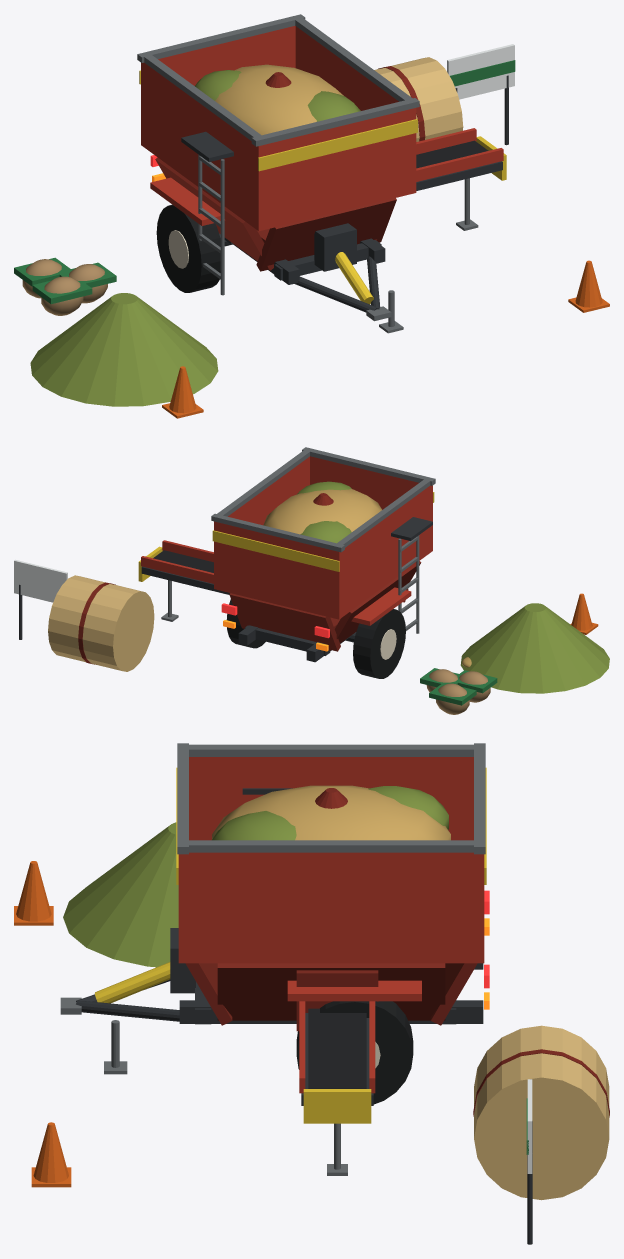
The model's file is feed_mixer_wagon.glb.
The picture shows the model from 3 angles, top to bottom: view 1: azimuth 30°, elevation 25°; view 2: azimuth 150°, elevation 25°; view 3: azimuth 270°, elevation 25°; orthographic projection. The views are drawn at different scales.
Parts seen in each view (by area): view 1: MixerBody, FieldProps, DischargeConveyor; view 2: MixerBody, FieldProps, DischargeConveyor; view 3: MixerBody, FieldProps, DischargeConveyor.
Boxes of the visible parts, bbox=[...] form: MixerBody: bbox=[137, 14, 419, 333]; FieldProps: bbox=[14, 44, 609, 418]; DischargeConveyor: bbox=[416, 128, 506, 230]; MixerBody: bbox=[211, 447, 435, 678]; FieldProps: bbox=[14, 559, 609, 714]; DischargeConveyor: bbox=[138, 540, 229, 621]; MixerBody: bbox=[60, 743, 489, 1104]; FieldProps: bbox=[14, 822, 609, 1244]; DischargeConveyor: bbox=[299, 1001, 375, 1175].
Size of the model in its own units: 7.76 by 2.46 by 5.11.
